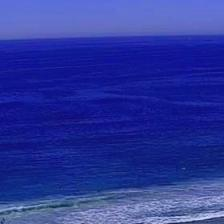surfer: (84, 182, 90, 186), (2, 218, 6, 222), (58, 187, 62, 189), (1, 221, 4, 223)
